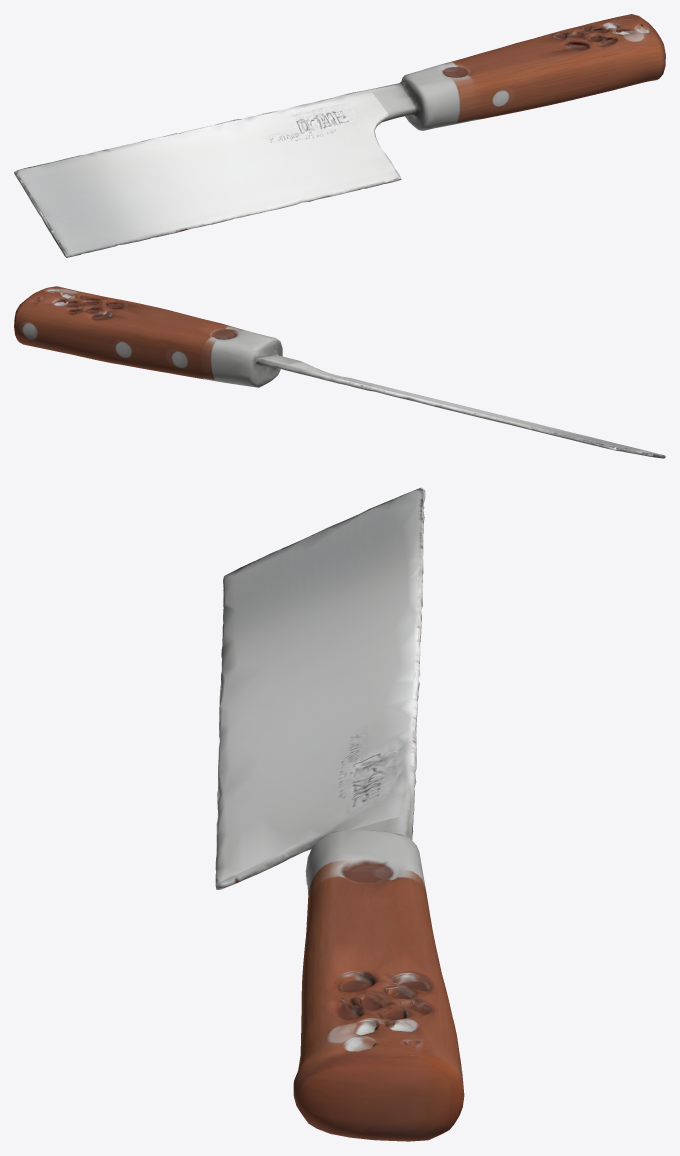
File: knife.glb
3 views of the same model, one above another, from view 1: azimuth 30°, elevation 25°; view 2: azimuth 150°, elevation 25°; view 3: azimuth 270°, elevation 25° (orthographic). The views are drawn at different scales.
Parts seen in each view (by area): view 1: Mesh1.0; view 2: Mesh1.0; view 3: Mesh1.0.
Boxes of the visible parts, x1,y1,x2,y2 form: Mesh1.0: [14, 14, 665, 257]; Mesh1.0: [14, 286, 665, 458]; Mesh1.0: [215, 487, 464, 1141].
Bounding box in the file's own units: 2.88 × 0.25 × 0.5186.
1 material, 1 textured.
